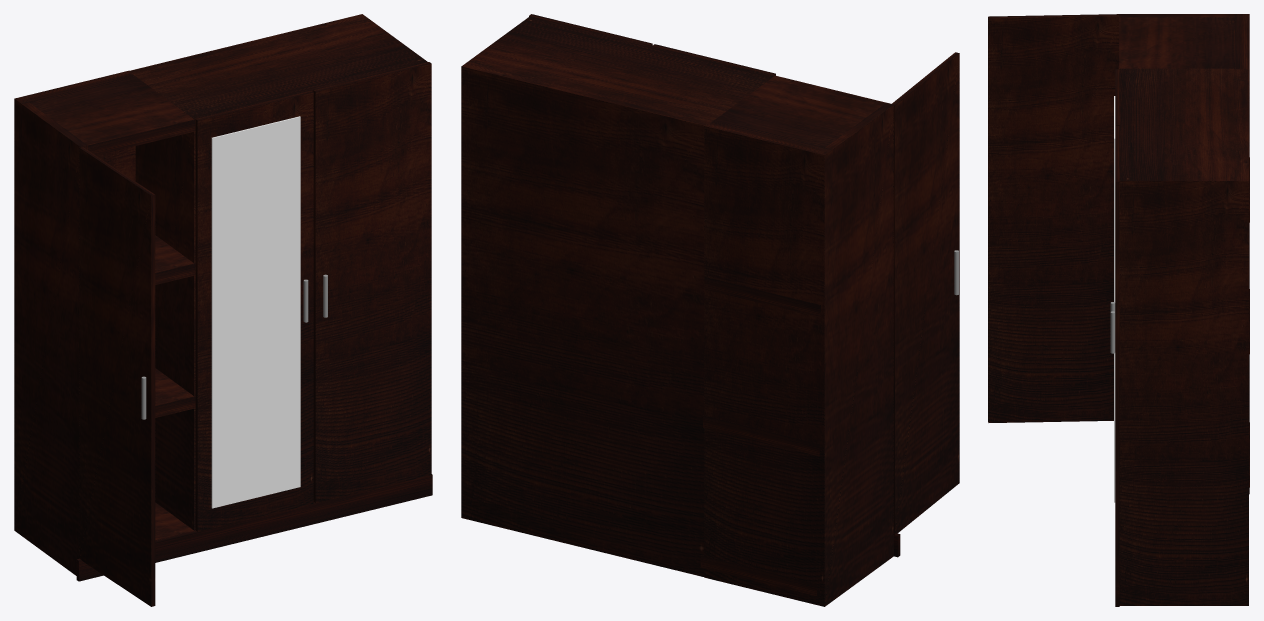
The model's file is state-mlsmklqi-mykf.glb.
3 views of the same model, side by side, from view 1: azimuth 30°, elevation 25°; view 2: azimuth 150°, elevation 25°; view 3: azimuth 270°, elevation 25° (orthographic). The views are drawn at different scales.
Parts seen in each view (by area): view 1: assetPrim:1765e77823bda8-19c7334745f:wardrobe-door-right, assetPrim:1765e77823bda8-19c7334745f:wardrobe-mirror, assetPrim:1765e77823bda8-19c7334745f:wardrobe-door-left, assetPrim:1765e77823bda8-19c7334745f:wardrobe-body, assetPrim:1765e77823bda8-19c7334745f:29eadcb969d898-19c72ef3, assetPrim:1765e77823bda8-19c7334745f:wardrobe-door-middle, assetPrim:1765e77823bda8-19c7334745f:c2d779147749a8-19c72f07, assetPrim:1765e77823bda8-19c7334745f:wardrobe-kickplate, assetPrim:1765e77823bda8-19c7334745f:70fefe0e3e1b78-19c72eea, assetPrim:1765e77823bda8-19c7334745f:4931c3a85f17e8-19c72f19, assetPrim:1765e77823bda8-19c7334745f:d9e486920a3b68-19c72f16, assetPrim:1765e77823bda8-19c7334745f:47865bb81f2908-19c72f10; view 2: assetPrim:1765e77823bda8-19c7334745f:wardrobe-body, assetPrim:1765e77823bda8-19c7334745f:70fefe0e3e1b78-19c72eea, assetPrim:1765e77823bda8-19c7334745f:29eadcb969d898-19c72ef3, assetPrim:1765e77823bda8-19c7334745f:wardrobe-door-left, assetPrim:1765e77823bda8-19c7334745f:c2d779147749a8-19c72f07, assetPrim:1765e77823bda8-19c7334745f:4931c3a85f17e8-19c72f19, assetPrim:1765e77823bda8-19c7334745f:47865bb81f2908-19c72f10, assetPrim:1765e77823bda8-19c7334745f:d9e486920a3b68-19c72f16; view 3: assetPrim:1765e77823bda8-19c7334745f:wardrobe-body, assetPrim:1765e77823bda8-19c7334745f:wardrobe-door-left, assetPrim:1765e77823bda8-19c7334745f:c2d779147749a8-19c72f07, assetPrim:1765e77823bda8-19c7334745f:wardrobe-door-right, assetPrim:1765e77823bda8-19c7334745f:70fefe0e3e1b78-19c72eea, assetPrim:1765e77823bda8-19c7334745f:wardrobe-mirror, assetPrim:1765e77823bda8-19c7334745f:29eadcb969d898-19c72ef3.
Boxes of the visible parts, x1,y1,x2,y2 form: assetPrim:1765e77823bda8-19c7334745f:wardrobe-door-right: (313,62,431,502); assetPrim:1765e77823bda8-19c7334745f:wardrobe-mirror: (211,116,300,508); assetPrim:1765e77823bda8-19c7334745f:wardrobe-door-left: (79,147,155,606); assetPrim:1765e77823bda8-19c7334745f:wardrobe-body: (128,14,427,530); assetPrim:1765e77823bda8-19c7334745f:29eadcb969d898-19c72ef3: (14,97,87,575); assetPrim:1765e77823bda8-19c7334745f:wardrobe-door-middle: (195,90,313,531); assetPrim:1765e77823bda8-19c7334745f:c2d779147749a8-19c72f07: (29,76,195,155); assetPrim:1765e77823bda8-19c7334745f:wardrobe-kickplate: (76,474,432,581); assetPrim:1765e77823bda8-19c7334745f:70fefe0e3e1b78-19c72eea: (14,70,135,181); assetPrim:1765e77823bda8-19c7334745f:4931c3a85f17e8-19c72f19: (155,368,195,417); assetPrim:1765e77823bda8-19c7334745f:d9e486920a3b68-19c72f16: (155,235,195,284); assetPrim:1765e77823bda8-19c7334745f:47865bb81f2908-19c72f10: (155,502,195,540); assetPrim:1765e77823bda8-19c7334745f:wardrobe-body: (461,16,774,576); assetPrim:1765e77823bda8-19c7334745f:70fefe0e3e1b78-19c72eea: (704,120,831,606); assetPrim:1765e77823bda8-19c7334745f:29eadcb969d898-19c72ef3: (818,102,893,606); assetPrim:1765e77823bda8-19c7334745f:wardrobe-door-left: (892,52,959,535); assetPrim:1765e77823bda8-19c7334745f:c2d779147749a8-19c72f07: (714,75,885,147); assetPrim:1765e77823bda8-19c7334745f:4931c3a85f17e8-19c72f19: (703,415,819,456); assetPrim:1765e77823bda8-19c7334745f:47865bb81f2908-19c72f10: (700,555,816,595); assetPrim:1765e77823bda8-19c7334745f:d9e486920a3b68-19c72f16: (704,277,820,317); assetPrim:1765e77823bda8-19c7334745f:wardrobe-body: (1119,68,1248,605); assetPrim:1765e77823bda8-19c7334745f:wardrobe-door-left: (988,14,1118,422); assetPrim:1765e77823bda8-19c7334745f:c2d779147749a8-19c72f07: (1119,17,1234,69); assetPrim:1765e77823bda8-19c7334745f:wardrobe-door-right: (1115,126,1119,586); assetPrim:1765e77823bda8-19c7334745f:70fefe0e3e1b78-19c72eea: (1234,14,1249,494); assetPrim:1765e77823bda8-19c7334745f:wardrobe-mirror: (1114,96,1115,502); assetPrim:1765e77823bda8-19c7334745f:29eadcb969d898-19c72ef3: (1119,14,1249,17).
Size of the model in its own units: 1.8 by 2.1 by 1.17.
Materials: 15 (11 with a texture image).
